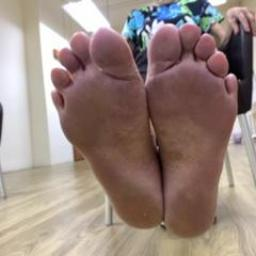Plantar View -Both Feet-: (28, 8, 250, 250)
